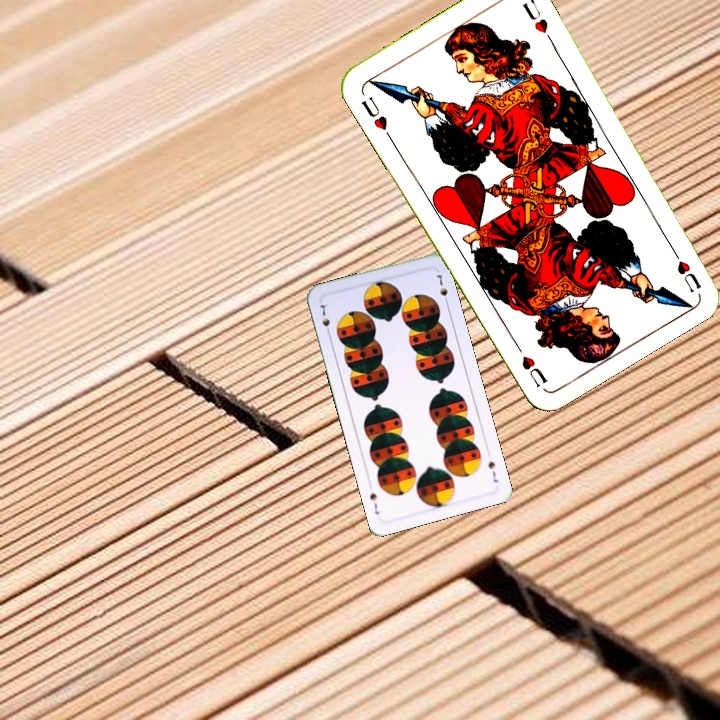HU: (665, 241, 704, 295), (357, 92, 391, 133)
S7: (316, 300, 333, 338), (484, 456, 501, 485)
